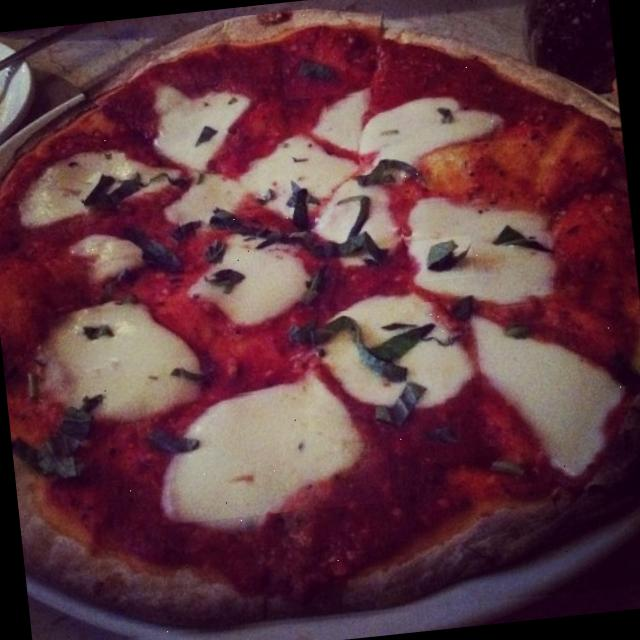basil: (288, 300, 454, 390), (5, 378, 120, 496), (292, 194, 394, 310), (82, 206, 185, 308), (203, 190, 322, 273), (79, 149, 191, 220), (338, 141, 438, 205), (370, 373, 448, 438), (280, 42, 348, 100), (402, 92, 471, 144), (166, 353, 233, 403), (405, 235, 474, 282), (473, 442, 538, 490), (136, 416, 198, 466), (184, 108, 234, 162), (494, 304, 540, 344), (274, 146, 319, 183), (410, 418, 462, 447)
cheese: (149, 380, 392, 525), (15, 284, 222, 434), (474, 298, 628, 495), (310, 286, 474, 424), (400, 190, 558, 308), (166, 216, 312, 340), (9, 136, 182, 228), (325, 81, 496, 172), (232, 116, 364, 230), (139, 68, 265, 180), (298, 162, 404, 274), (162, 171, 264, 237), (57, 223, 138, 285)
pizza: (0, 12, 640, 629)
